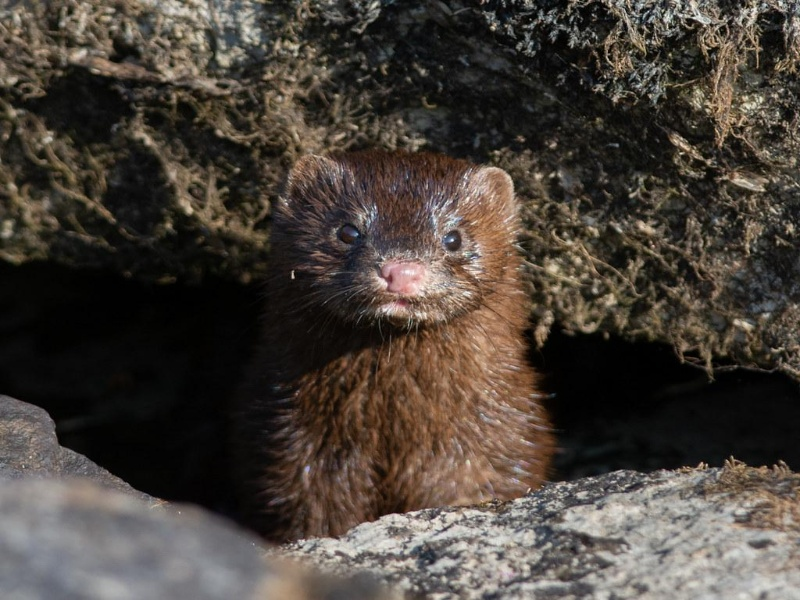minkish: (257, 146, 560, 538)
